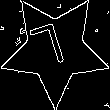L_S: (33, 20, 77, 78)
